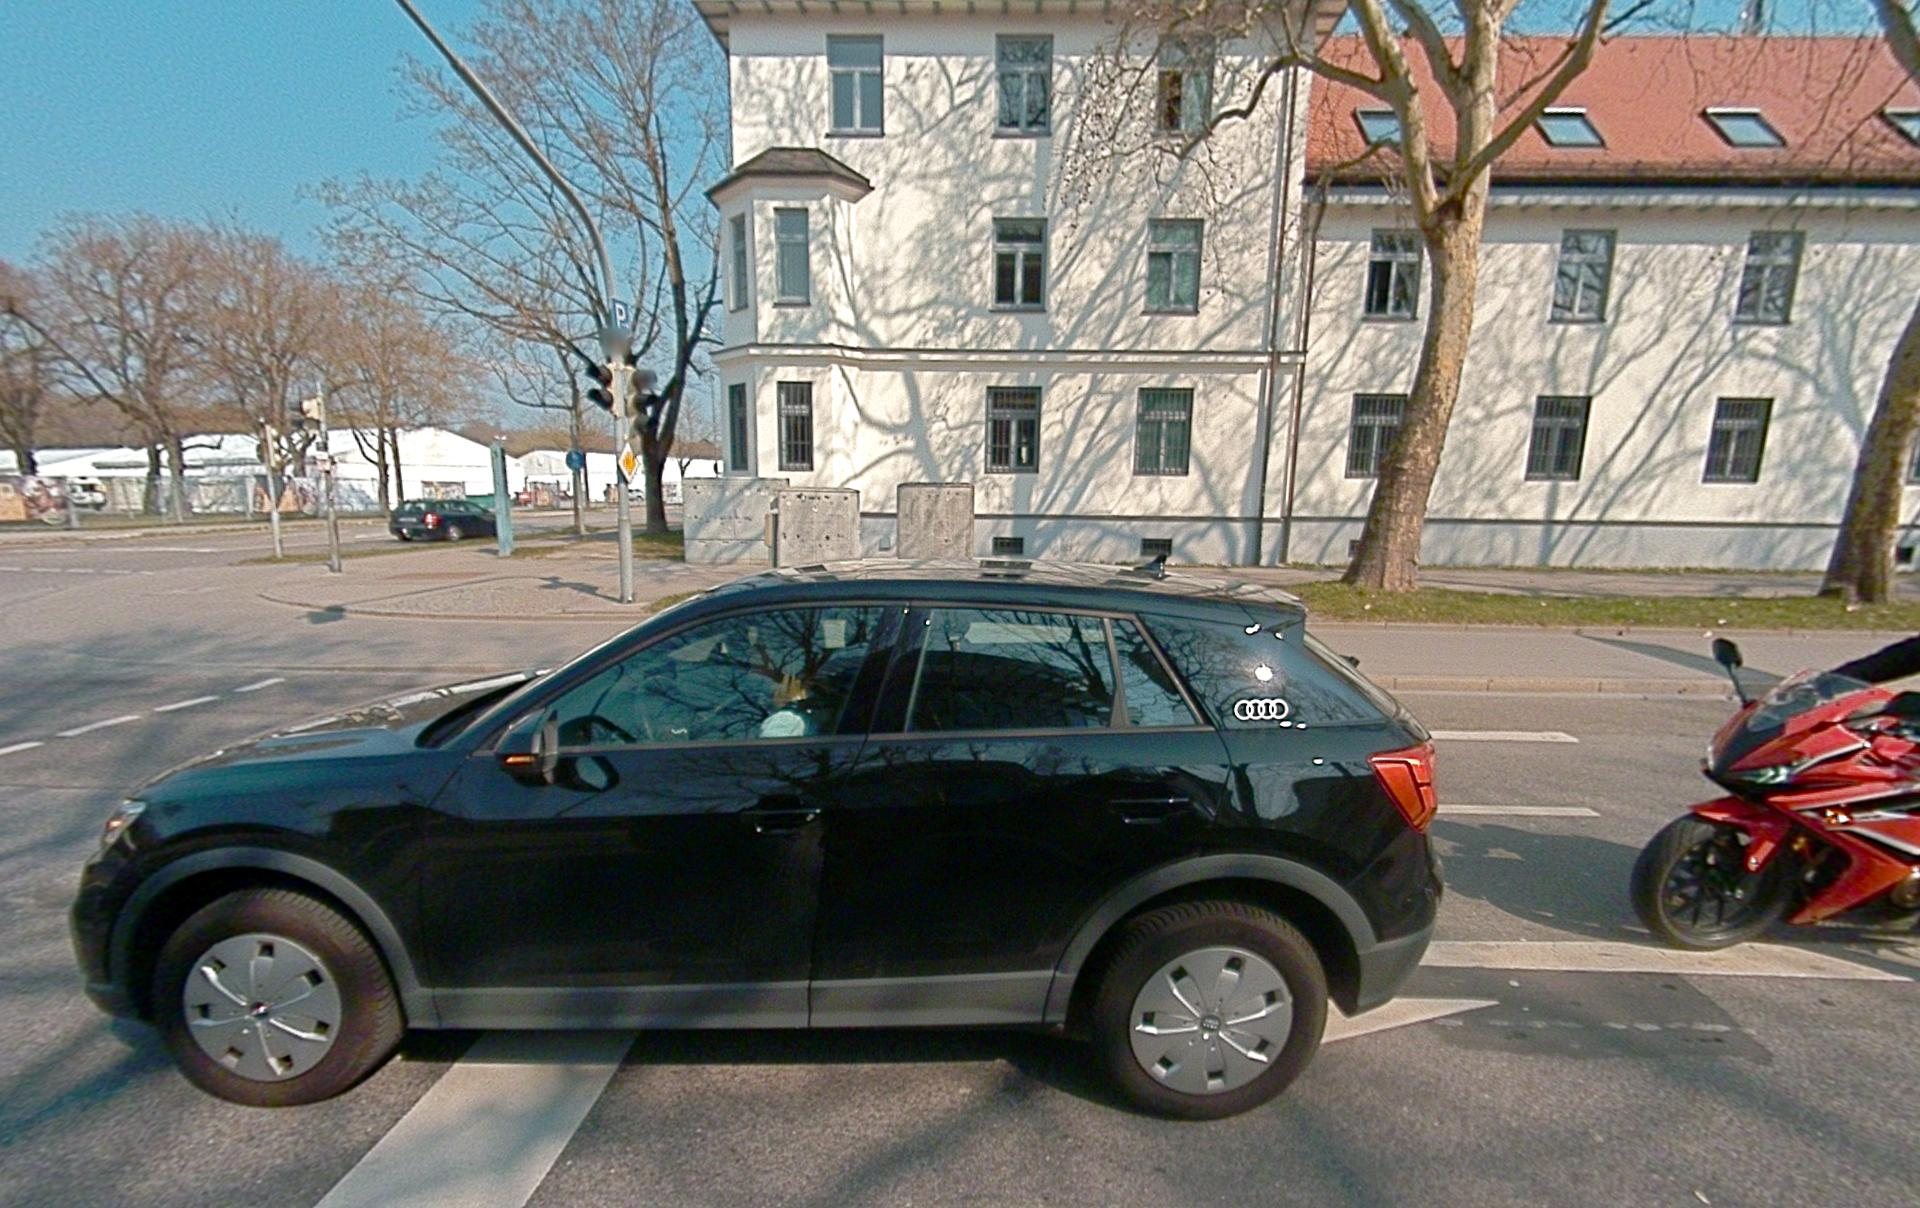car: (72, 559, 1441, 1118), (390, 500, 495, 540)
motorcycle: (1631, 636, 1919, 948)
